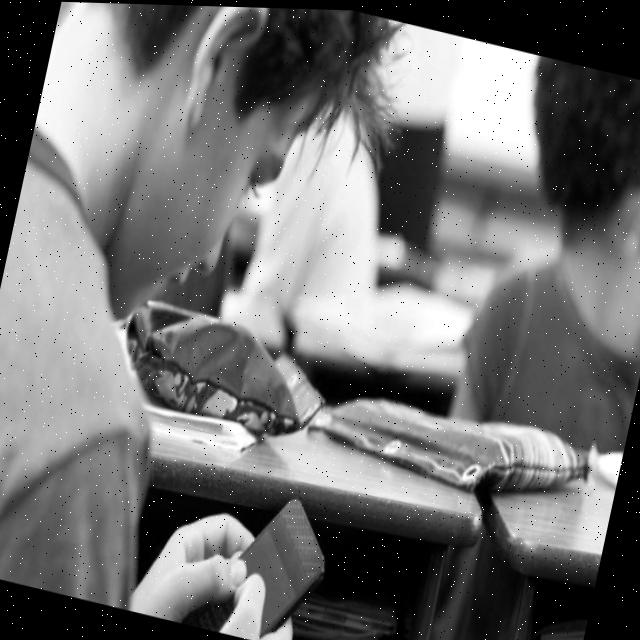phone: (175, 472, 338, 640)
